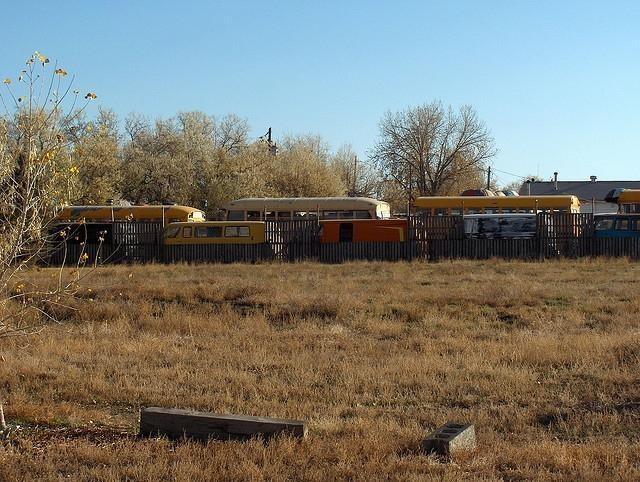bus: (413, 195, 582, 238), (221, 196, 393, 221), (57, 206, 206, 222), (604, 188, 640, 214)
car: (464, 214, 536, 238), (594, 212, 640, 238)
